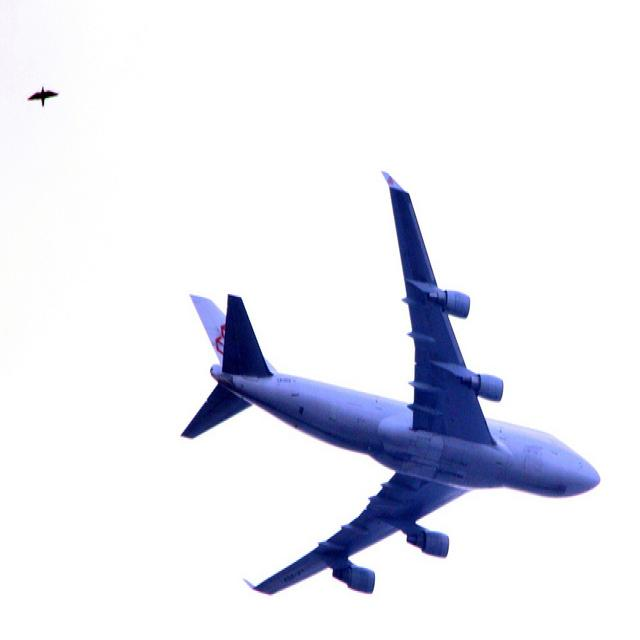airplane: (179, 168, 603, 598)
